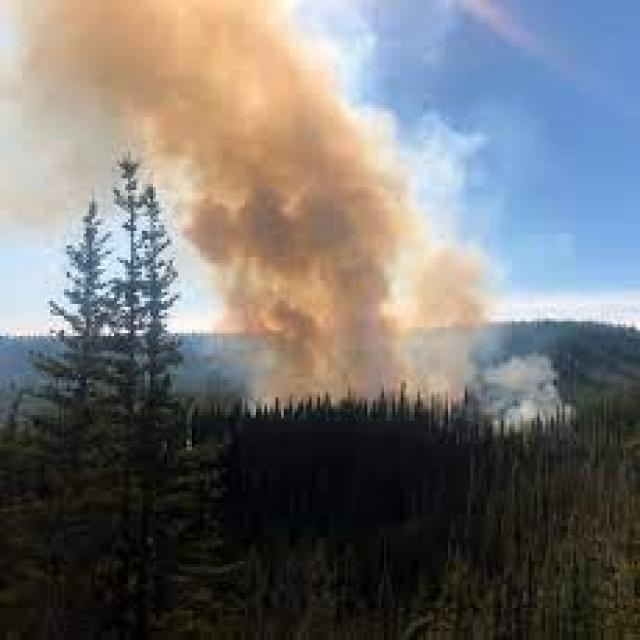Smoke: (161, 0, 436, 403), (177, 118, 496, 320), (0, 5, 378, 105), (470, 354, 575, 419)
